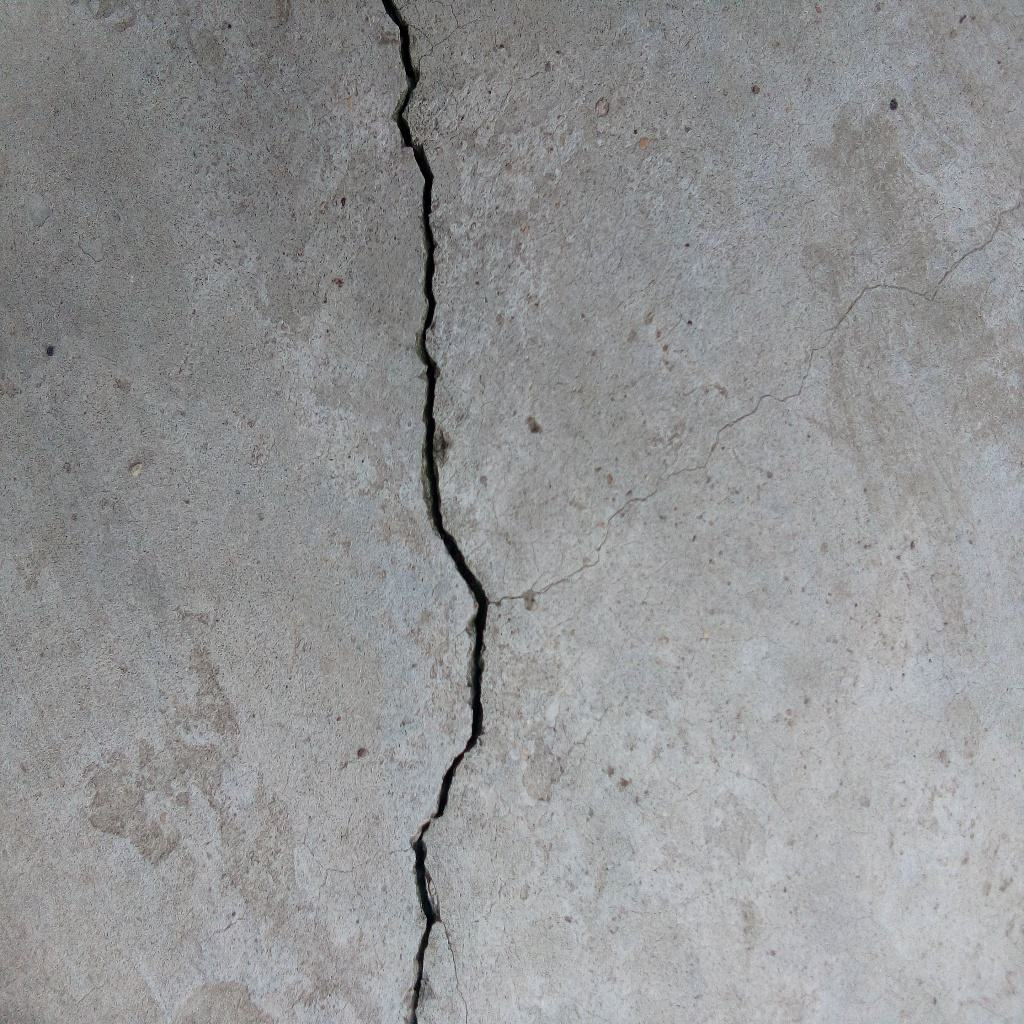Crack: (491, 198, 1024, 604), (383, 1, 491, 1024)
